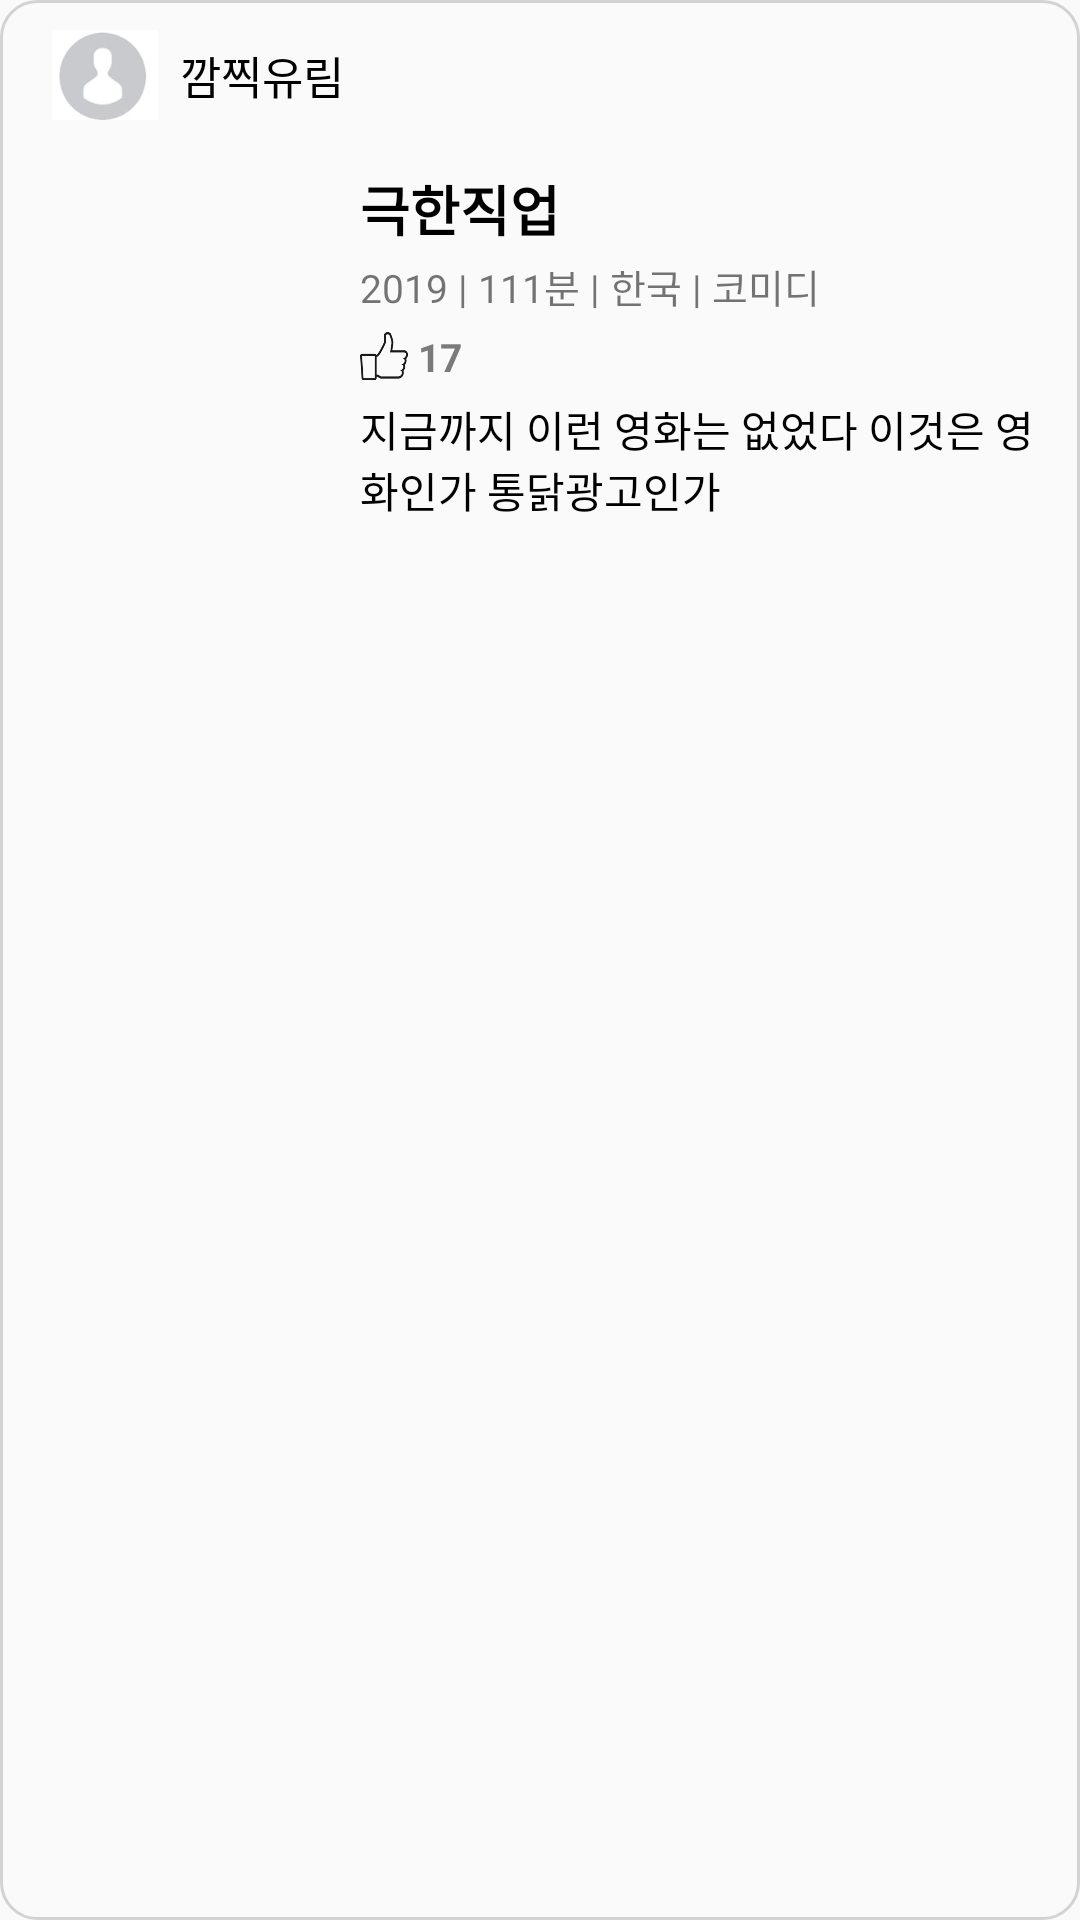

Icons on this 1080×1920 Android screen, each with its box as {"left": x1, "top": y1, "right": x2, "bottom": y2}:
person: {"left": 60, "top": 33, "right": 146, "bottom": 120}
